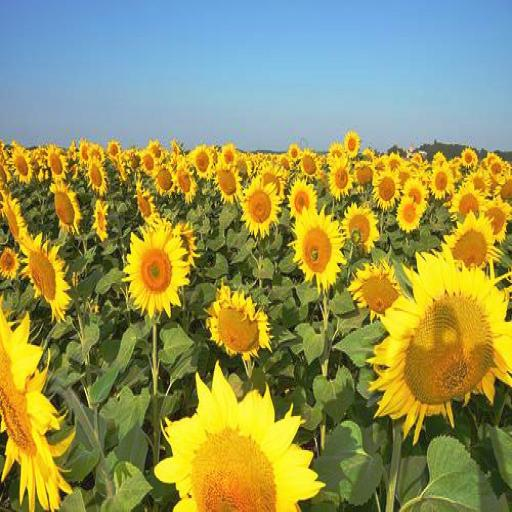sunflower: (156, 365, 326, 512), (371, 249, 512, 424), (125, 218, 188, 317), (205, 280, 274, 370), (18, 230, 72, 322), (293, 206, 345, 292), (438, 210, 497, 272), (240, 180, 280, 236), (49, 184, 82, 234), (342, 202, 374, 250), (287, 176, 317, 220), (371, 168, 399, 210), (394, 190, 422, 230), (45, 142, 69, 184), (213, 166, 241, 200), (8, 139, 30, 181), (84, 155, 107, 195), (175, 164, 200, 200), (189, 142, 214, 175), (430, 166, 453, 200), (154, 159, 175, 195), (332, 162, 352, 195), (344, 128, 359, 156)
